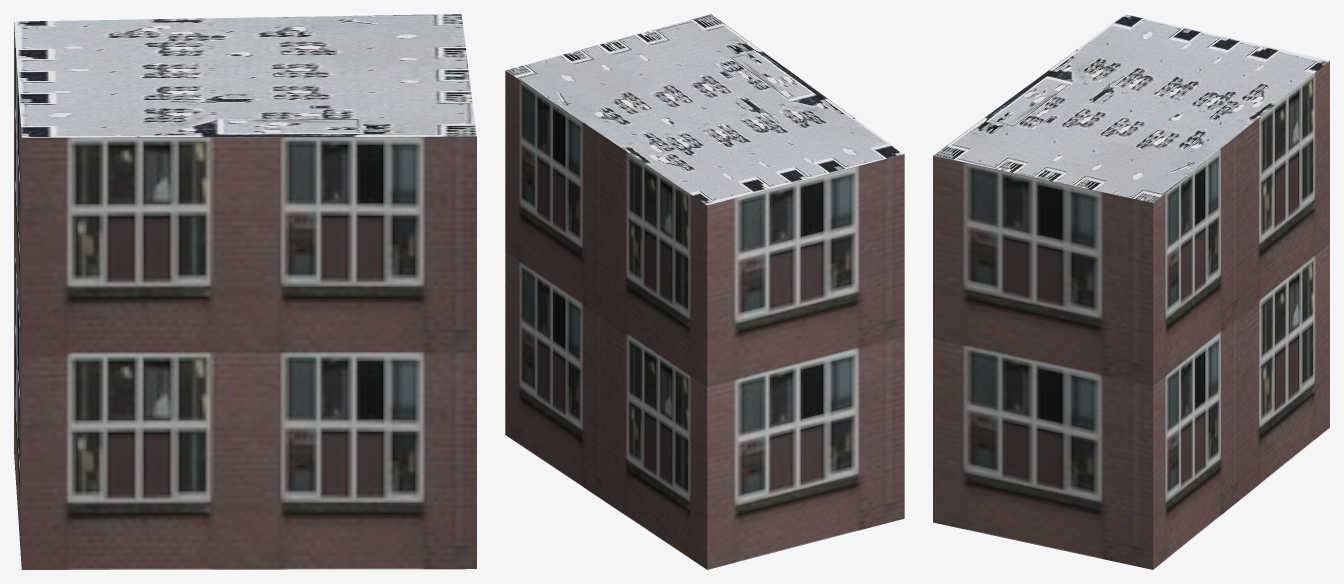
The model's file is ResTex__355.fbx.
3 views of the same model, side by side, from view 1: azimuth 30°, elevation 25°; view 2: azimuth 150°, elevation 25°; view 3: azimuth 270°, elevation 25° (orthographic). The views are drawn at different scales.
Visible parts, largest first — view 1: CityEngineMaterial_12_m, CityEngineMaterial_m; view 2: CityEngineMaterial_12_m, CityEngineMaterial_m; view 3: CityEngineMaterial_12_m, CityEngineMaterial_m.
Part boxes in pixels (x1,y1,x2,y2): CityEngineMaterial_12_m: (14,22,476,569); CityEngineMaterial_m: (14,14,476,137); CityEngineMaterial_12_m: (505,70,904,569); CityEngineMaterial_m: (505,14,903,205); CityEngineMaterial_12_m: (933,61,1329,569); CityEngineMaterial_m: (933,14,1329,202).
Bounding box in the file's own units: 6.63 × 6 × 5.88.
2 materials, 2 textured.
